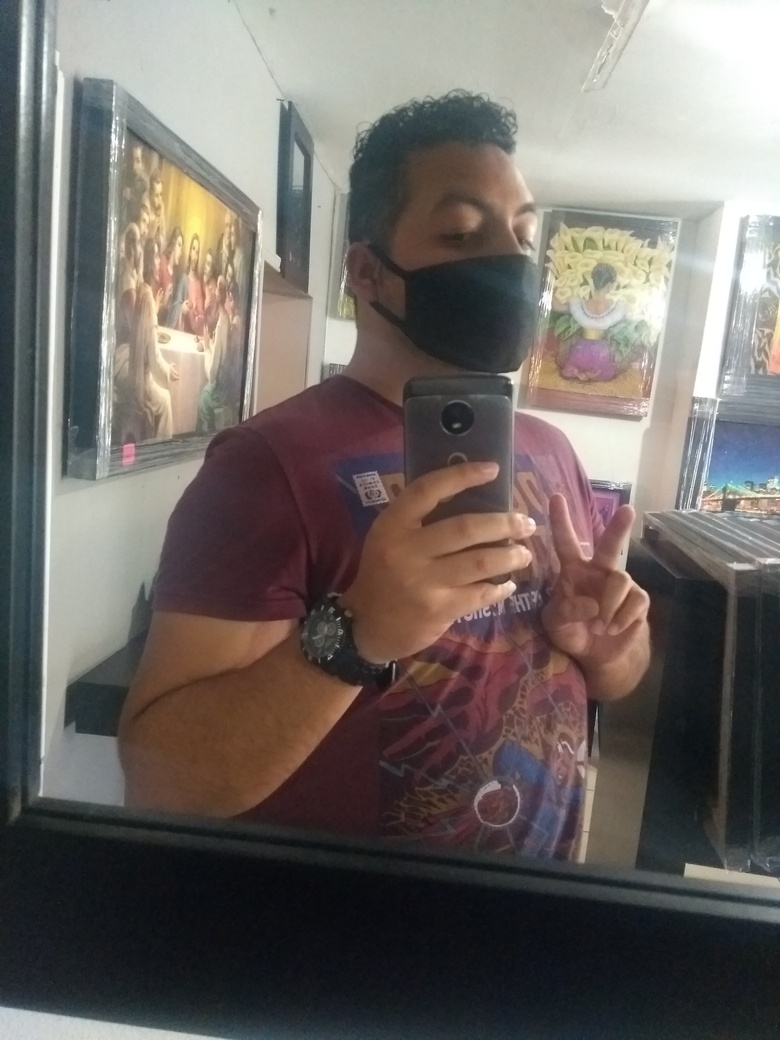Yoshi: (314, 58, 620, 393)
